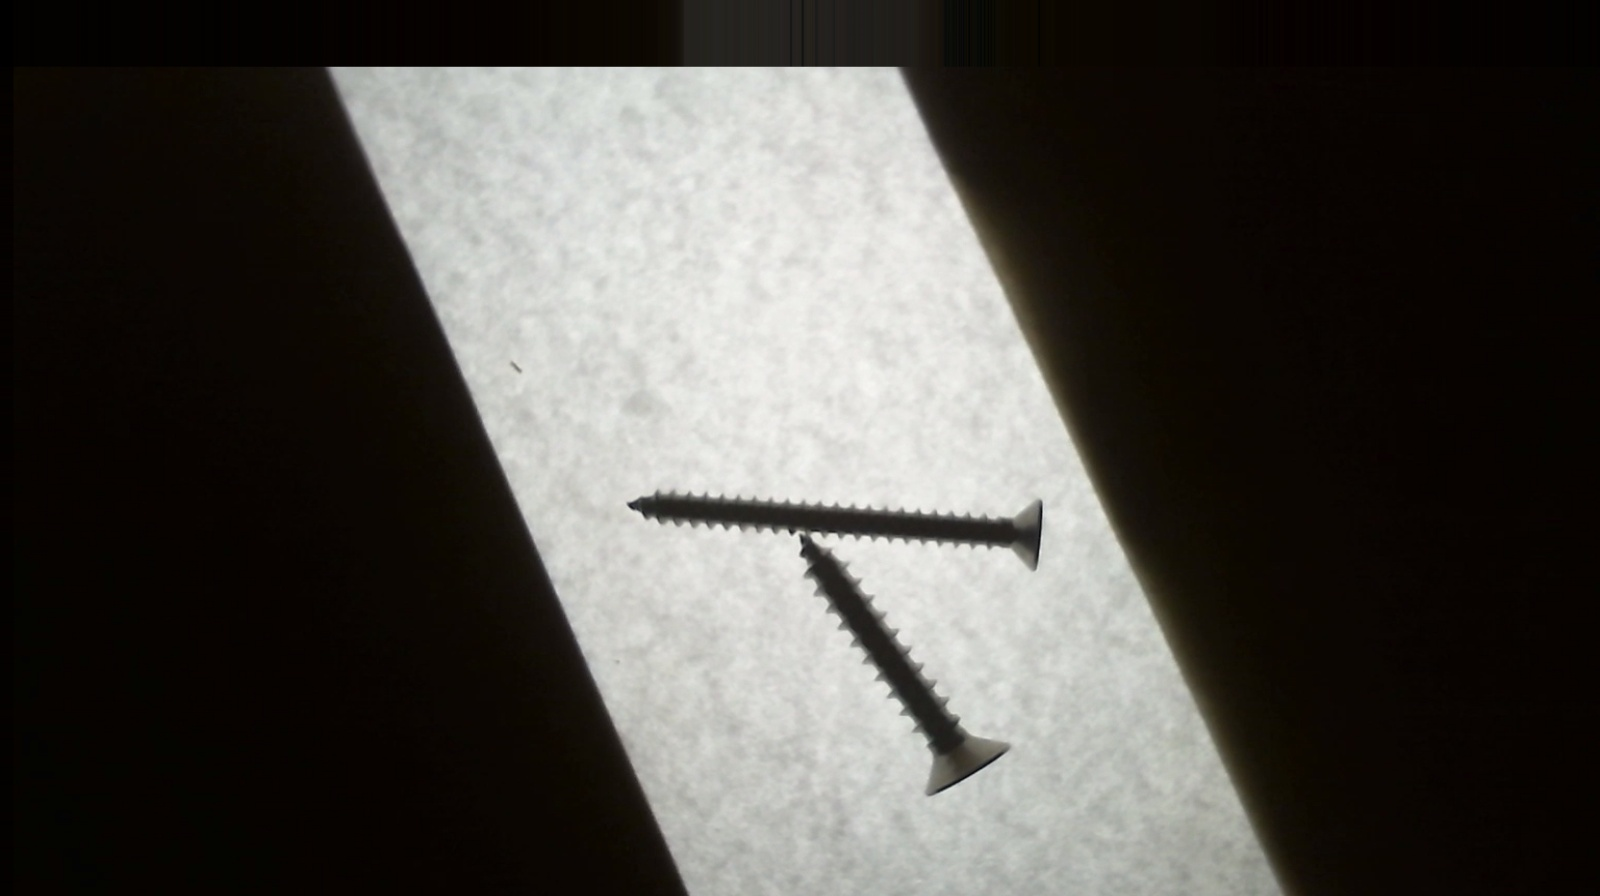S001: (795, 535, 1015, 801)
S002: (624, 483, 1047, 576)
